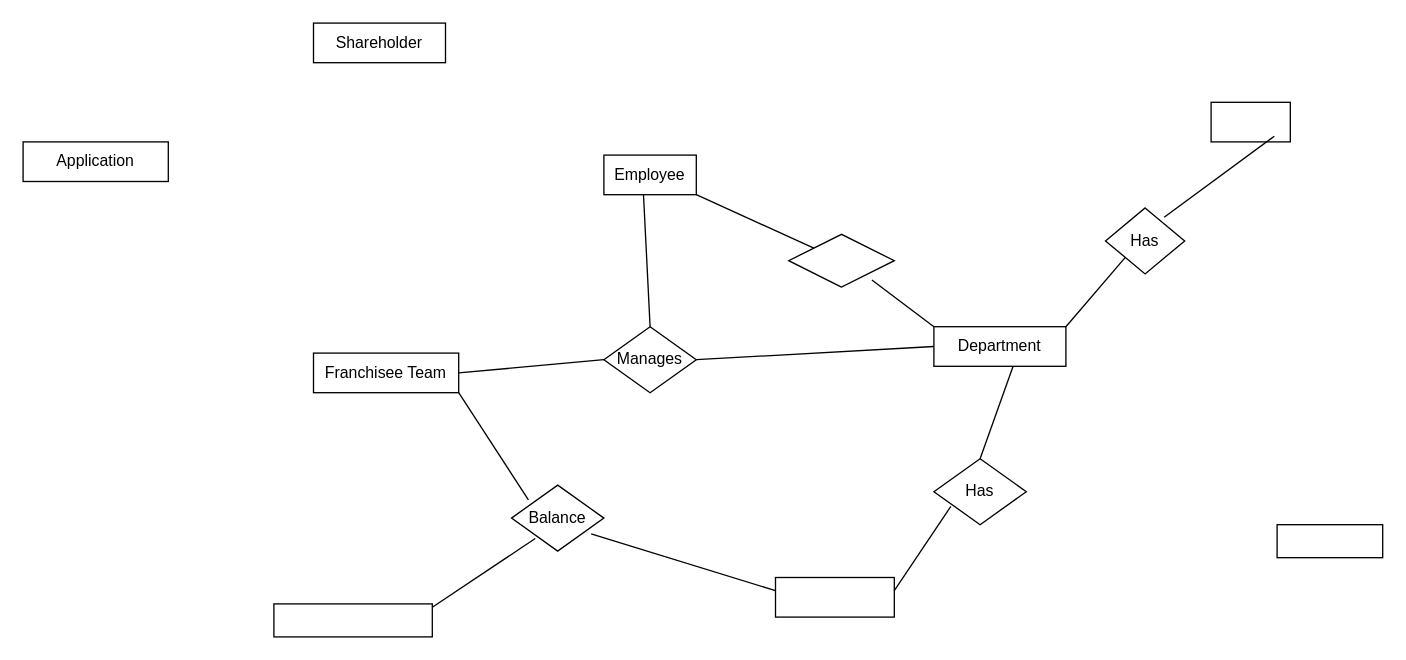
Image size: 1406x660. Some labels were removed from this diagram. The shapes that lost their labels are listed below. From the top down, each one's centre as x and y in pixels, then its label:
At pixel 1250 121: "Store".
At pixel 840 260: "Assigned".
At pixel 1329 540: "Report".
At pixel 834 596: "Account".
At pixel 352 620: "Central Management".
